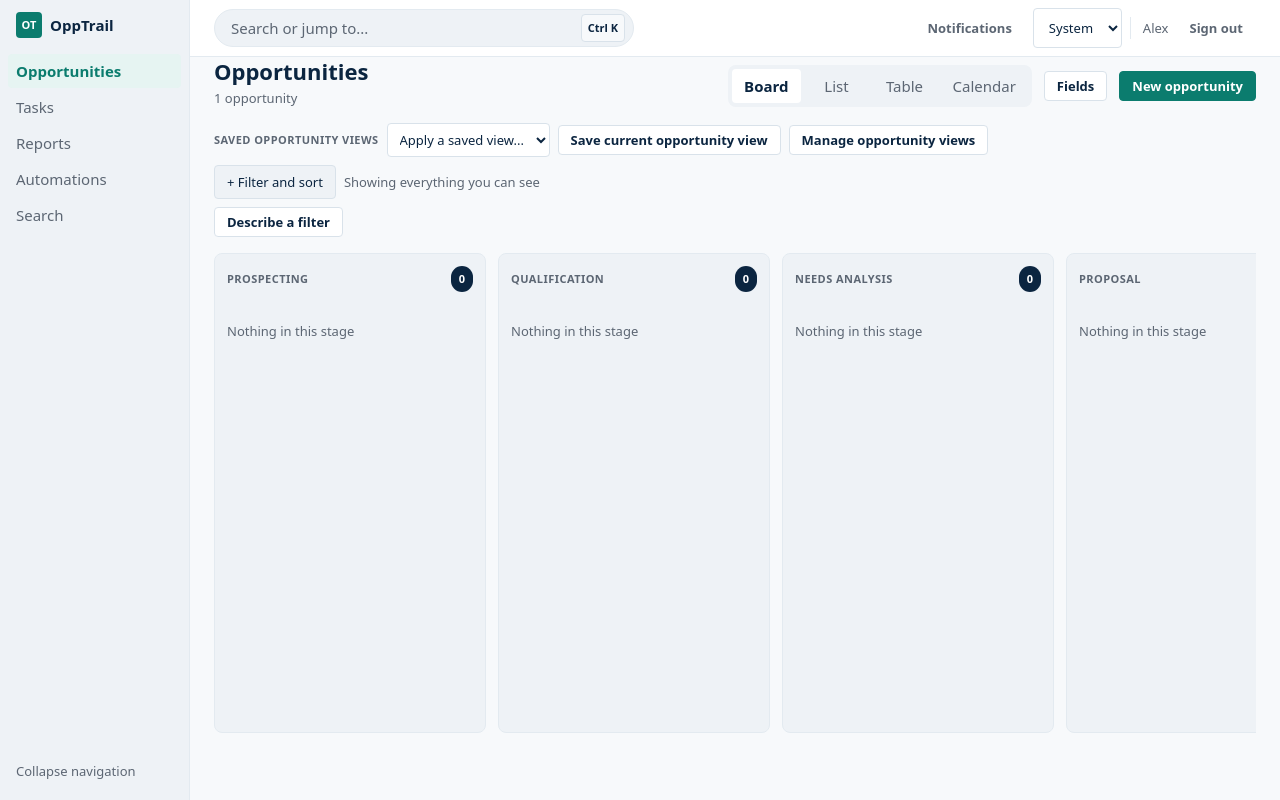
Test: the command palette › falls through to full-text search for a query that is not a command
Expected: the heading "Opportunities" is shown, [214,57,368,85]
Type keys "{Control>}k{/Control}"
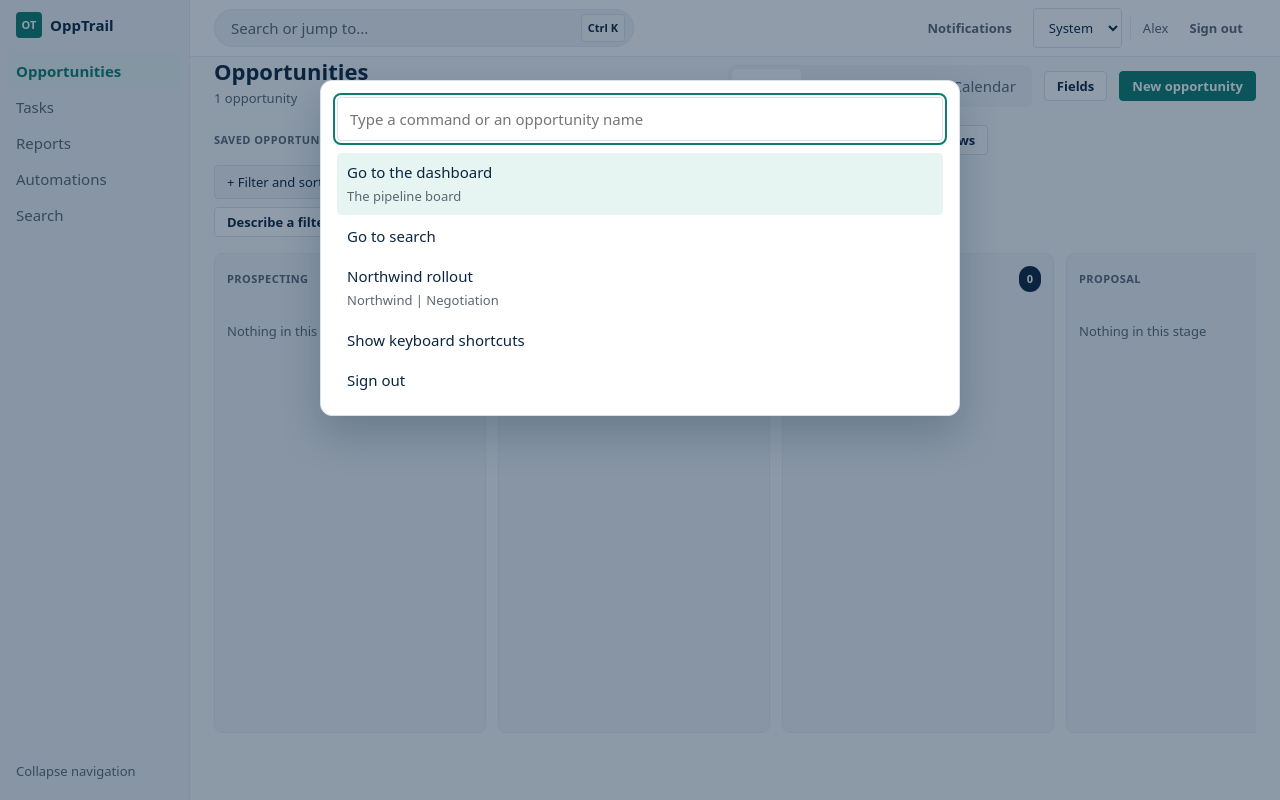
Type keys "procurement"
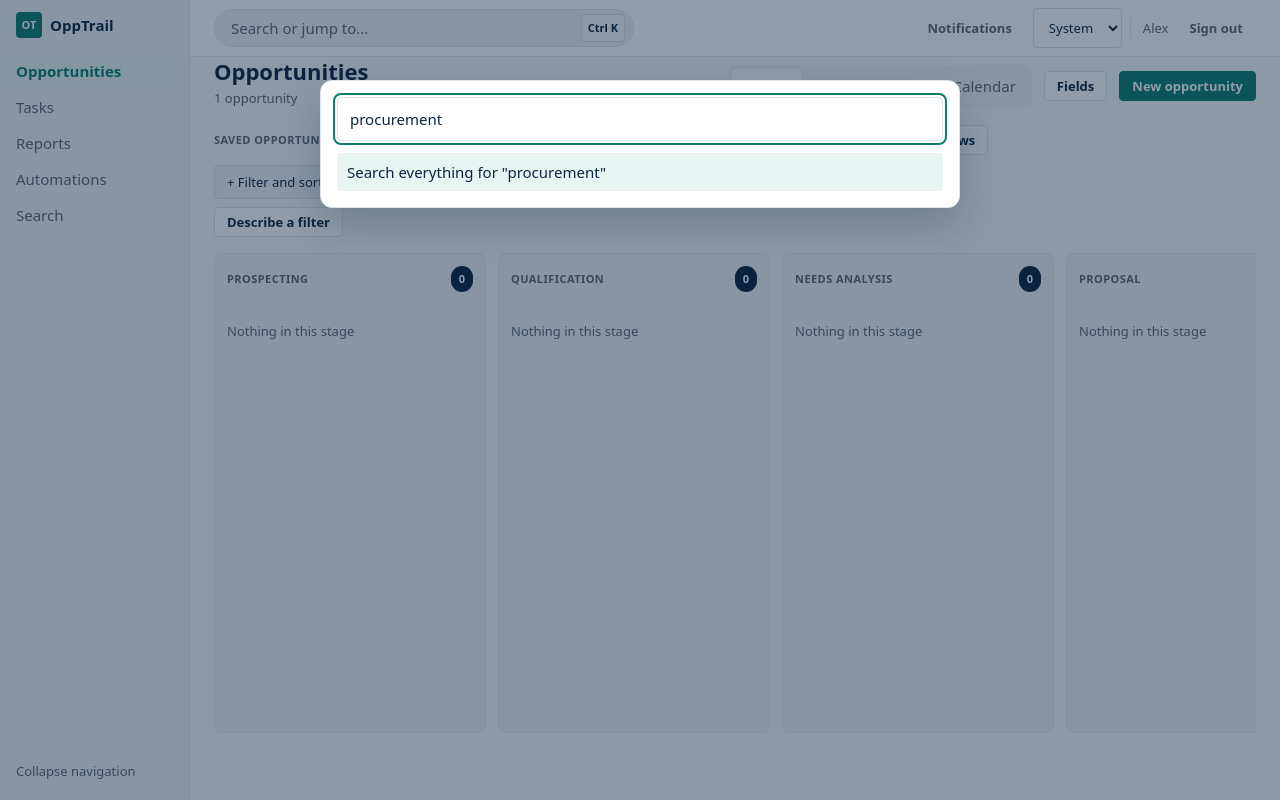
Click the option "Search everything for \"procurement\"": (477, 172) [337,153,943,191]
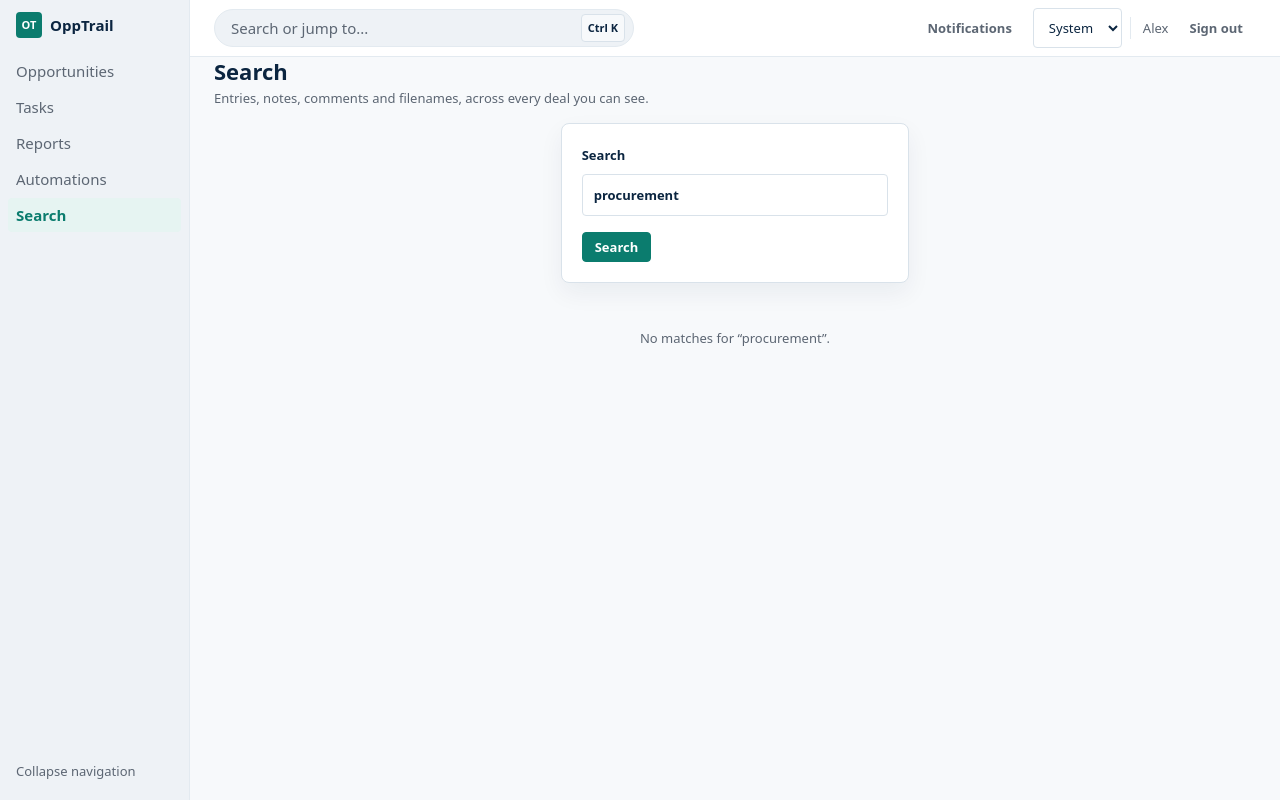
Expected: the heading "Search" is shown, [214,56,288,86]
Expected: the field labelled "Search" holds "procurement", [582,174,888,216]
